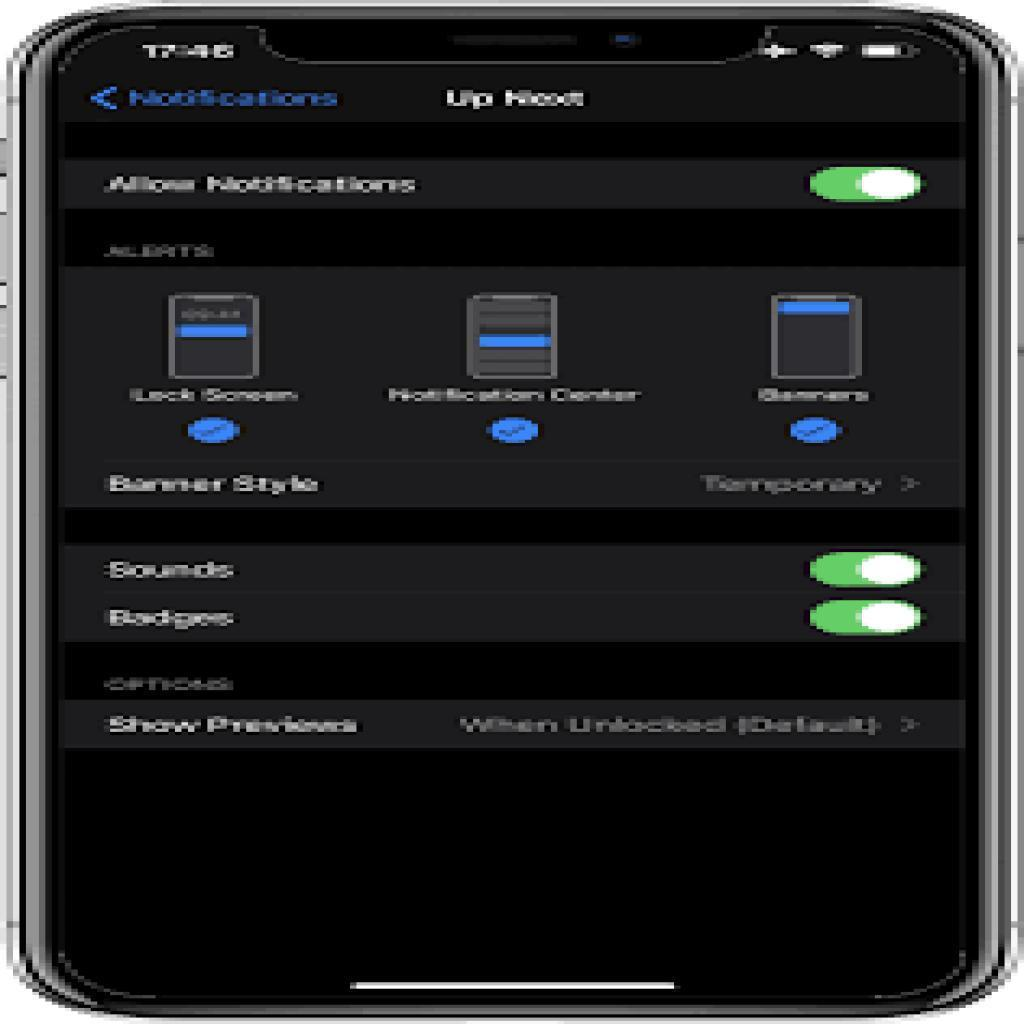switch: (789, 156, 942, 208), (795, 594, 926, 639), (797, 551, 935, 589)
